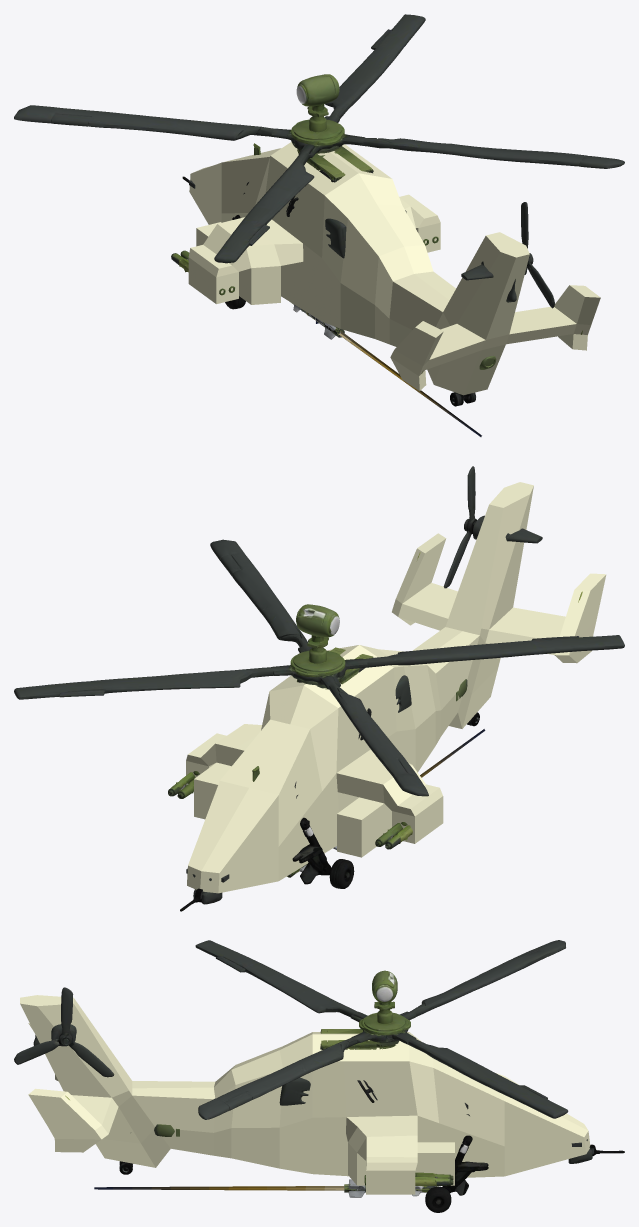
The model's file is helicopter.obj.
3 renders of one model, top to bottom at view 1: azimuth 30°, elevation 25°; view 2: azimuth 150°, elevation 25°; view 3: azimuth 270°, elevation 25°, orthographic. The views are drawn at different scales.
Parts seen in each view (by area): view 1: COL_helicopter, helicopter, AMMO_balle; view 2: COL_helicopter, helicopter; view 3: COL_helicopter, helicopter, AMMO_balle.
Boxes of the visible parts, x1,y1,x2,y2 form: COL_helicopter: (188, 142, 600, 395); helicopter: (14, 14, 624, 406); AMMO_balle: (315, 318, 481, 436); COL_helicopter: (186, 482, 606, 893); helicopter: (14, 466, 624, 911); COL_helicopter: (20, 995, 590, 1194); helicopter: (14, 940, 624, 1212); AMMO_balle: (94, 1186, 344, 1190).
Size of the model in its own units: 2.13 by 1.22 by 3.07.
